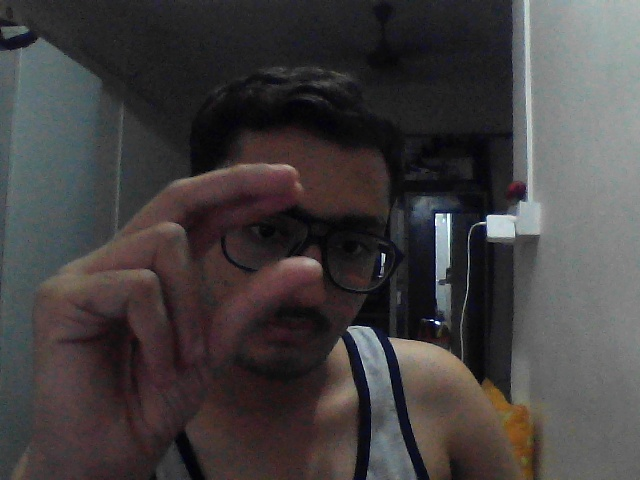No: (94, 153, 317, 363)
